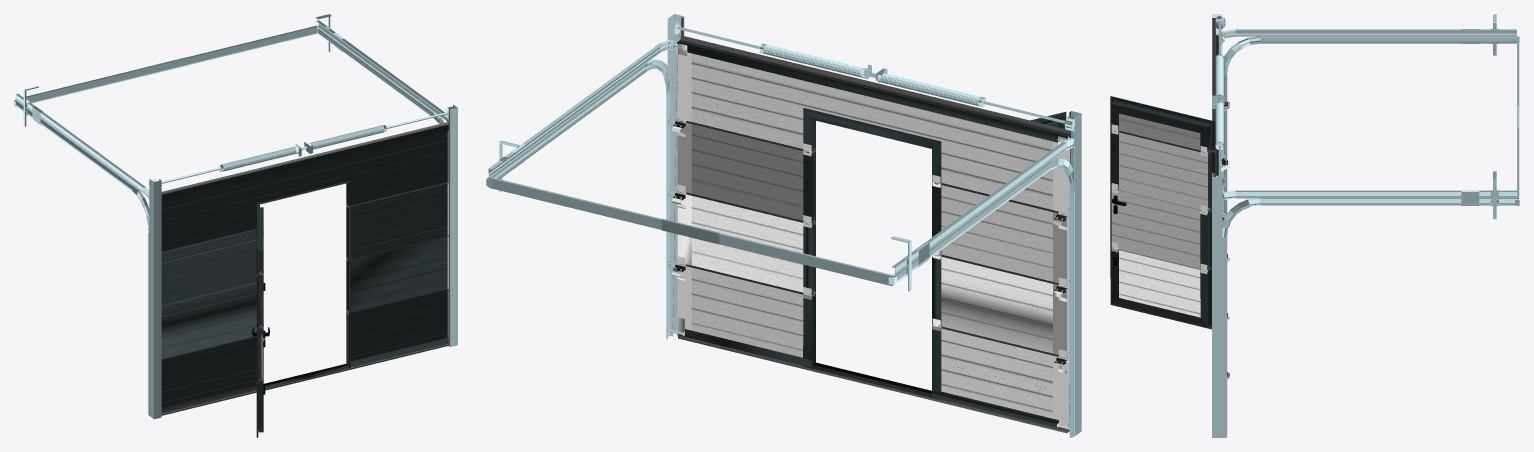
The model's file is 171280_nervurewoodgrain.fbx.
3 views of the same model, side by side, from view 1: azimuth 30°, elevation 25°; view 2: azimuth 150°, elevation 25°; view 3: azimuth 270°, elevation 25° (orthographic). The views are drawn at different scales.
Parts seen in each view (by area): view 1: painel1, baliza, painel4, painel2, painel3, d_mola, e_mola, porte4, porte1, barra_tracao, porte2; view 2: painel1, painel4, baliza, painel2, painel3, barra_tracao, d_mola, e_mola; view 3: baliza, porte2, porte4, porte3, porte1.
Part boxes in pixels (bbox=[...]): painel1: bbox=[161, 122, 448, 251]; baliza: bbox=[14, 14, 457, 419]; painel4: bbox=[161, 289, 448, 415]; painel2: bbox=[161, 182, 448, 305]; painel3: bbox=[161, 235, 448, 358]; d_mola: bbox=[221, 147, 296, 171]; e_mola: bbox=[309, 125, 384, 149]; porte4: bbox=[256, 335, 263, 437]; porte1: bbox=[256, 202, 263, 274]; barra_tracao: bbox=[149, 106, 454, 184]; porte2: bbox=[256, 231, 263, 328]; painel1: bbox=[672, 35, 1070, 214]; painel4: bbox=[672, 262, 1069, 433]; baliza: bbox=[486, 14, 1081, 437]; painel2: bbox=[672, 119, 1069, 286]; painel3: bbox=[672, 190, 1069, 357]; barra_tracao: bbox=[667, 19, 1075, 131]; d_mola: bbox=[881, 73, 981, 106]; e_mola: bbox=[763, 44, 863, 77]; baliza: bbox=[1212, 14, 1519, 437]; porte2: bbox=[1110, 125, 1215, 211]; porte4: bbox=[1110, 243, 1211, 329]; porte3: bbox=[1110, 184, 1211, 270]; porte1: bbox=[1110, 96, 1215, 153].
Size of the model in its own units: 299 by 222 by 315.
Materials: 1 (1 with a texture image).
